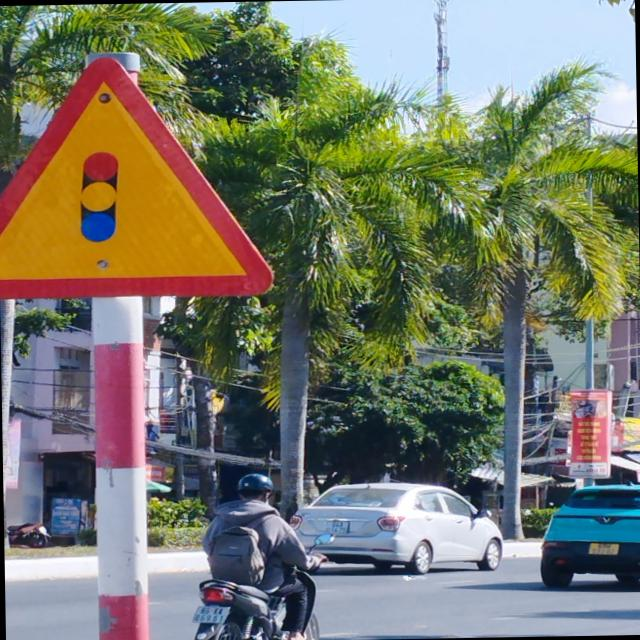Duong_Co_Go_Giam_Toc: (0, 54, 273, 295)
